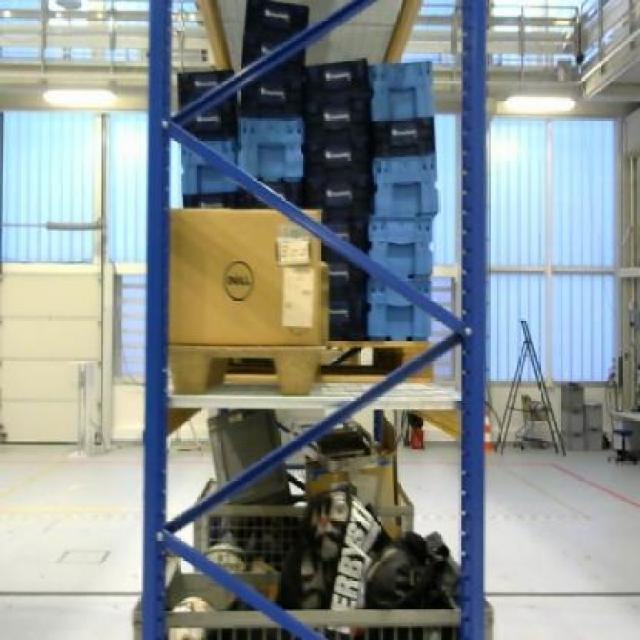box: (168, 207, 320, 347)
